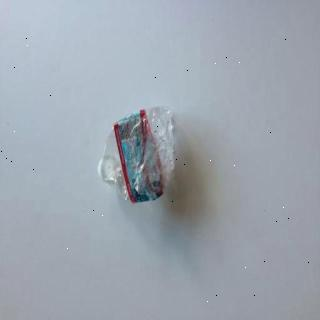Plastic-bottle: (100, 106, 177, 204)
